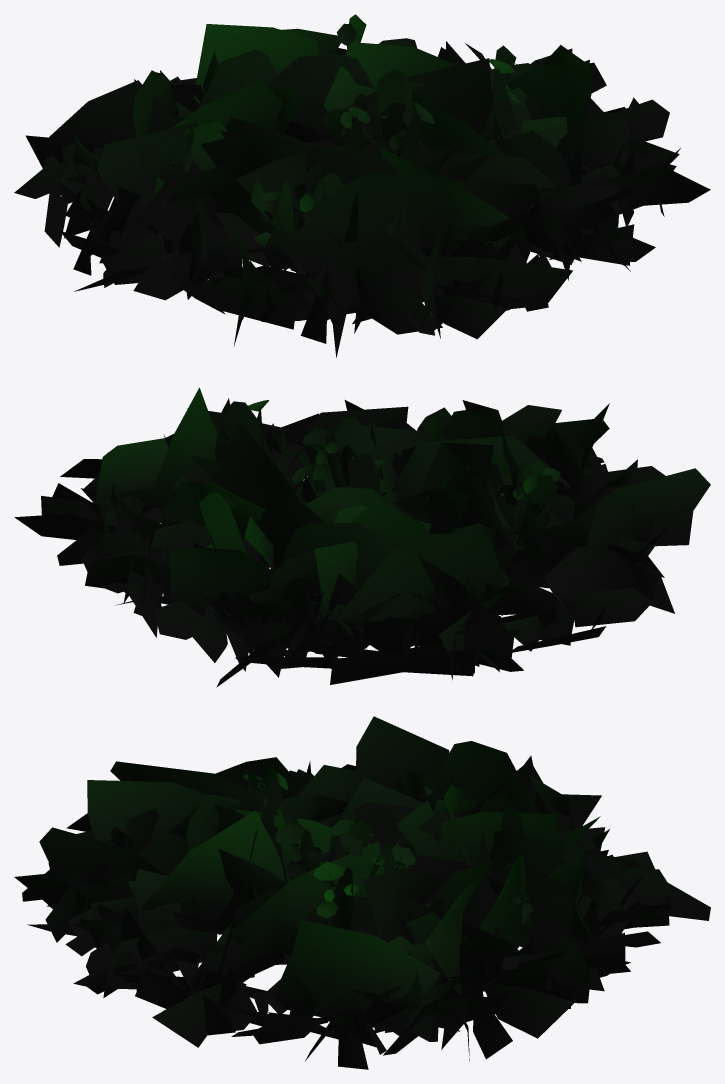
File: Grass Mixed_C.fbx
3 views of the same model, one above another, from view 1: azimuth 30°, elevation 25°; view 2: azimuth 150°, elevation 25°; view 3: azimuth 270°, elevation 25° (orthographic). The views are drawn at different scales.
Visible parts, largest first — view 1: Grass MixedC_G_LOD0, Grass MixedC_F_LOD0; view 2: Grass MixedC_G_LOD0, Grass MixedC_F_LOD0; view 3: Grass MixedC_G_LOD0, Grass MixedC_F_LOD0.
Boxes of the visible parts, x1,y1,x2,y2 form: Grass MixedC_G_LOD0: (14, 24, 710, 357); Grass MixedC_F_LOD0: (155, 14, 519, 275); Grass MixedC_G_LOD0: (14, 387, 710, 687); Grass MixedC_F_LOD0: (199, 400, 560, 615); Grass MixedC_G_LOD0: (14, 716, 710, 1069); Grass MixedC_F_LOD0: (237, 767, 533, 948).
Size of what is drawn, in the model's own units: 2.88 by 0.6833 by 2.82.
